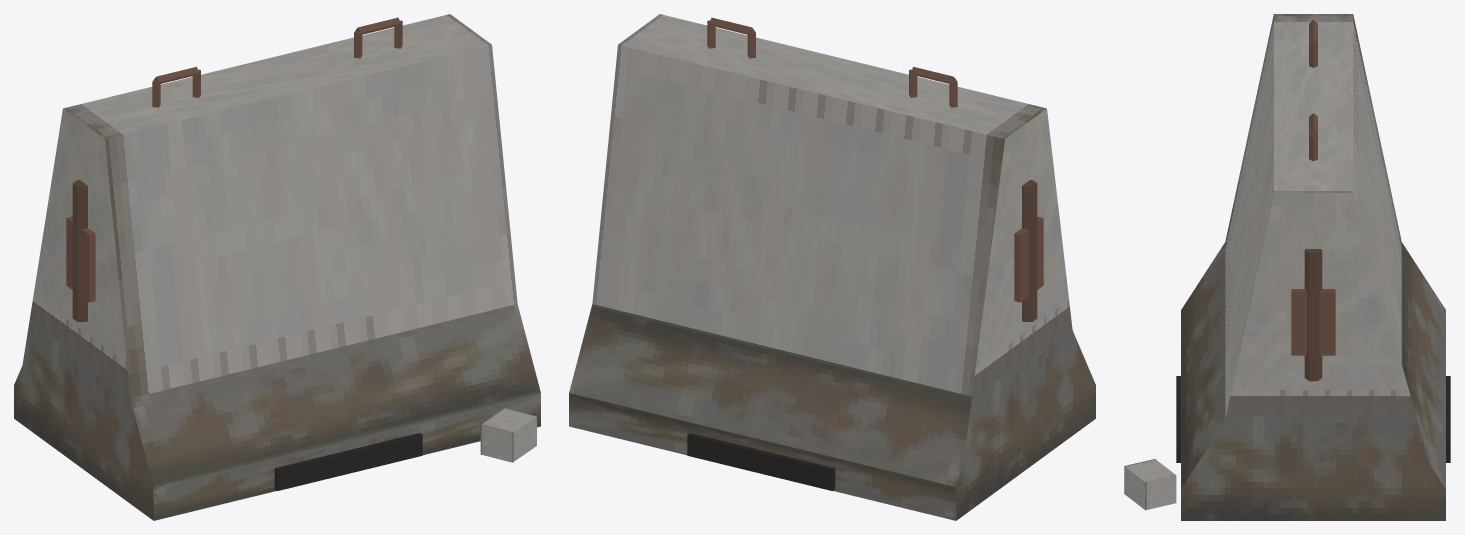
The model's file is Building_AncientConcreteBarrier.glb.
3 views of the same model, side by side, from view 1: azimuth 30°, elevation 25°; view 2: azimuth 150°, elevation 25°; view 3: azimuth 270°, elevation 25° (orthographic). The views are drawn at different scales.
Visible parts, largest first — view 1: AncientConcreteBarrier; view 2: AncientConcreteBarrier; view 3: AncientConcreteBarrier.
Boxes of the visible parts, left/top/right/bottom form: AncientConcreteBarrier: left=14, top=14, right=540, bottom=520; AncientConcreteBarrier: left=569, top=14, right=1095, bottom=520; AncientConcreteBarrier: left=1124, top=14, right=1450, bottom=520.
Size of the model in its own units: 1 by 0.89 by 0.7401.
Materials: 1 (1 with a texture image).
